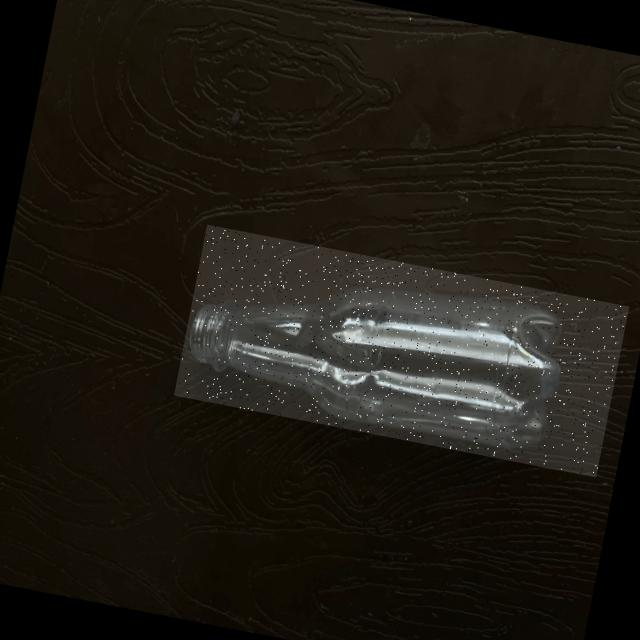PET_ClearBottle: (173, 225, 628, 478)
